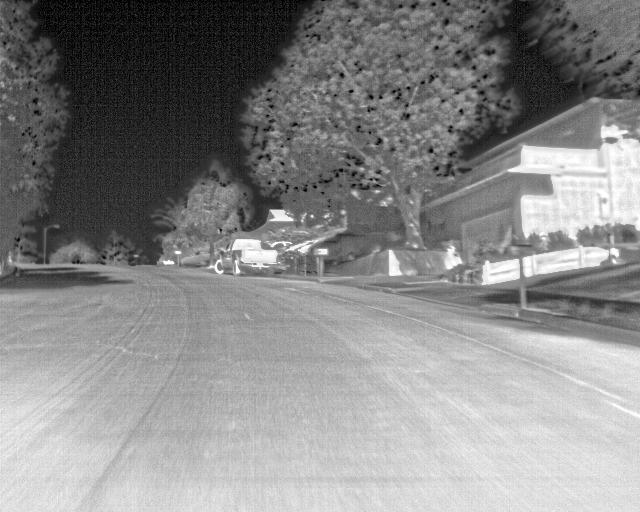car: (216, 234, 282, 287)
light: (36, 217, 80, 252)
mail box: (309, 245, 327, 268)
